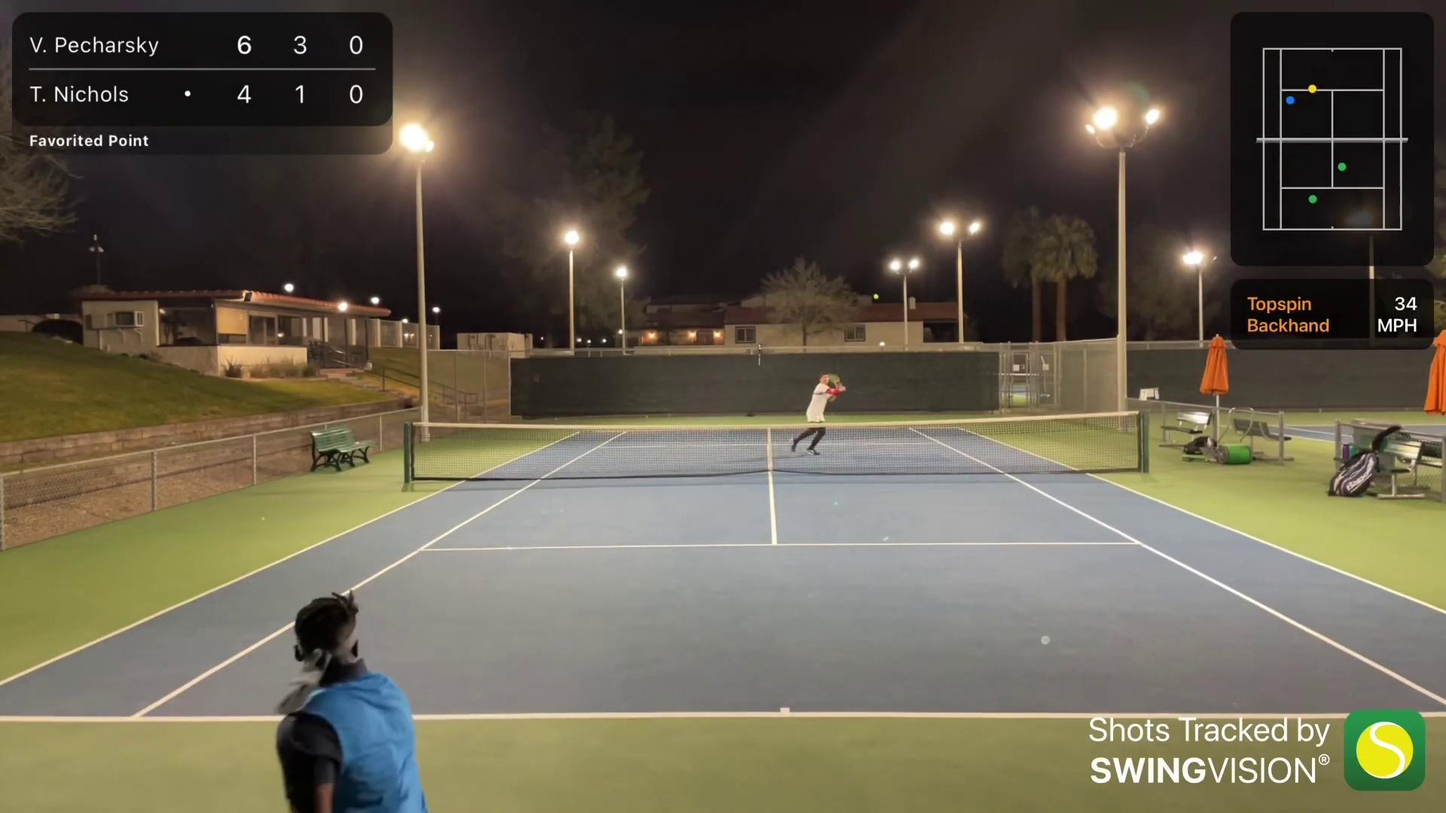ball: (873, 294, 880, 300)
